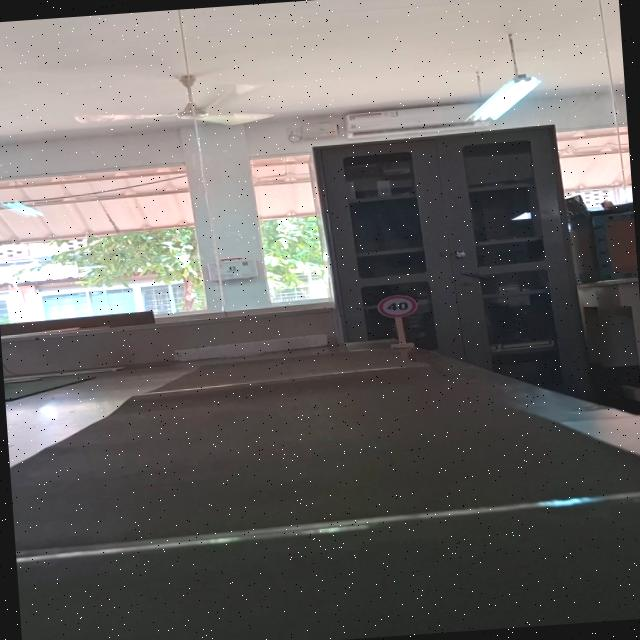Speed40: (375, 292, 419, 319)
